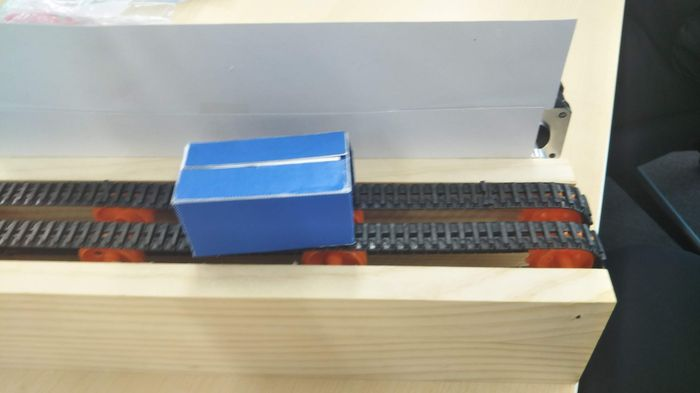box3: (167, 129, 373, 263)
